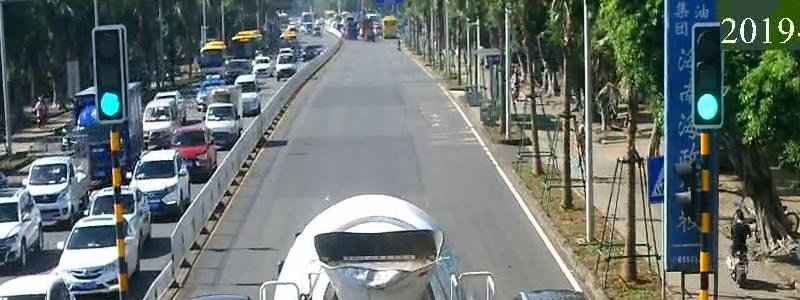green: (687, 85, 733, 130), (88, 87, 129, 126)
